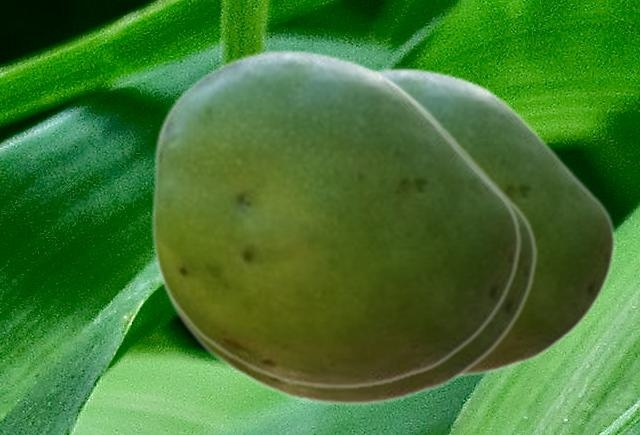green_mango: (156, 70, 536, 406), (150, 48, 520, 389), (372, 66, 615, 377)
